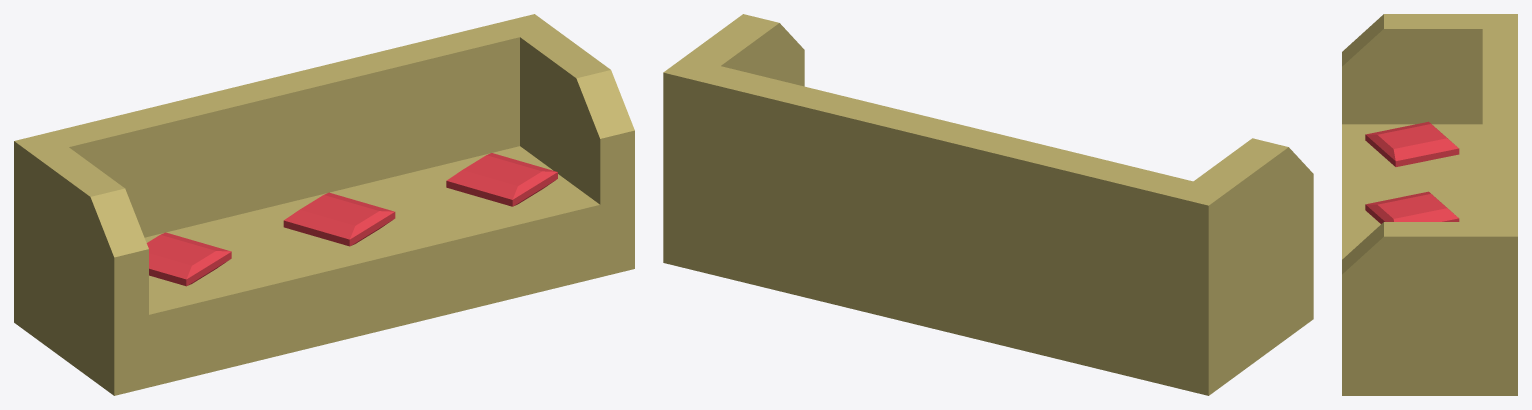
File: Sofa.fbx
3 renders of one model, left to right at view 1: azimuth 30°, elevation 25°; view 2: azimuth 150°, elevation 25°; view 3: azimuth 270°, elevation 25°, orthographic. The views are drawn at different scales.
Visible parts, largest first — view 1: Sofa, Cusion.004, Cusion.006, Cusion.005; view 2: Sofa; view 3: Sofa, Cusion.005, Cusion.004.
Boxes of the visible parts, box(x1,y1,x2,y2) form: Sofa: box(14, 14, 634, 395); Cusion.004: box(283, 192, 395, 246); Cusion.006: box(446, 153, 557, 206); Cusion.005: box(146, 232, 231, 286); Sofa: box(663, 14, 1313, 395); Sofa: box(1342, 14, 1517, 395); Cusion.005: box(1365, 121, 1459, 166); Cusion.004: box(1365, 191, 1459, 223).
Size of the model in its own units: 300 by 100 by 100.
